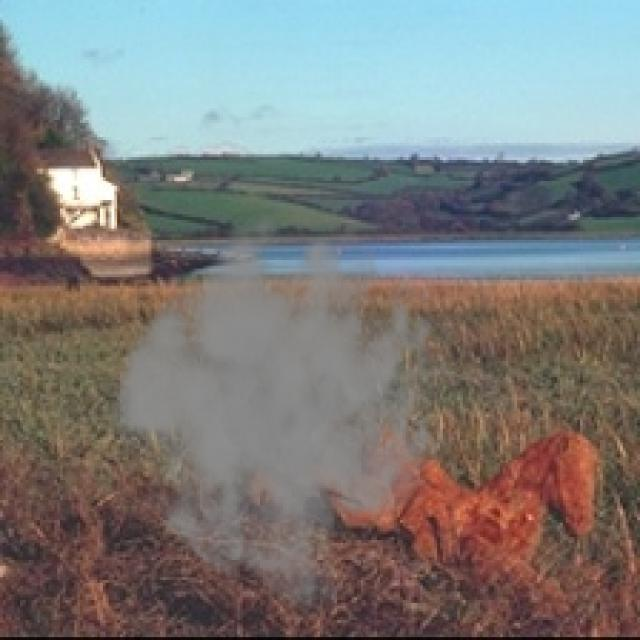Smoke: (106, 197, 454, 617)
